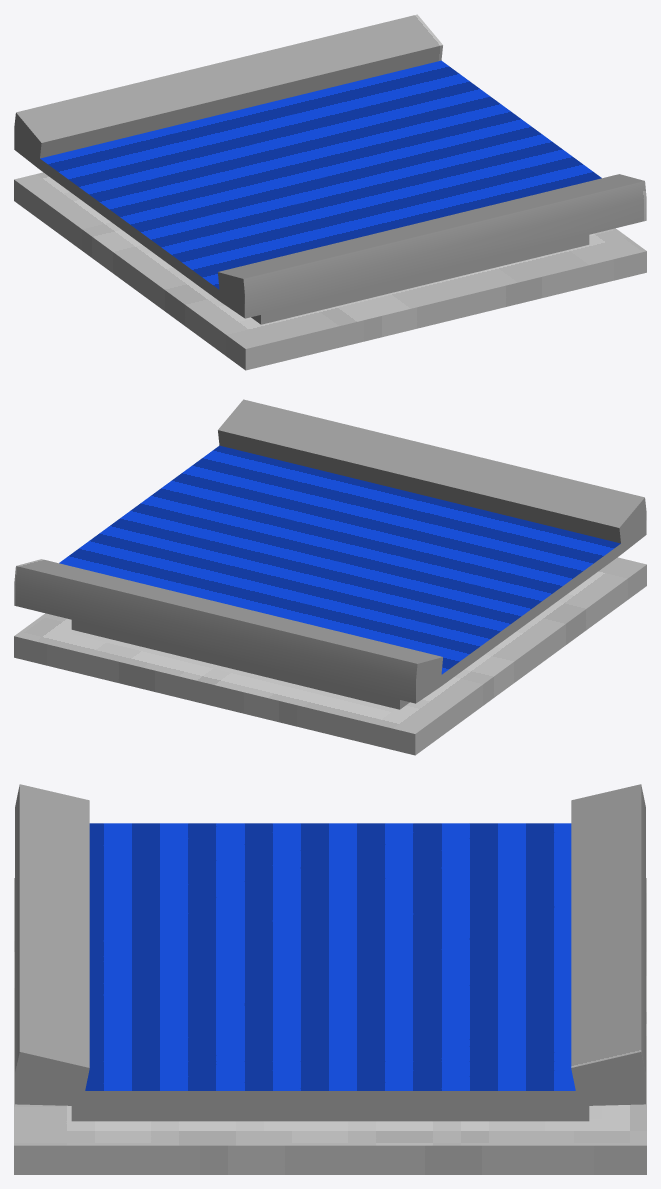
Rendered from solar_panel.obj.
3 views of the same model, one above another, from view 1: azimuth 30°, elevation 25°; view 2: azimuth 150°, elevation 25°; view 3: azimuth 270°, elevation 25° (orthographic). The views are drawn at different scales.
Parts seen in each view (by area): view 1: solarPanel; view 2: solarPanel; view 3: solarPanel.
Part boxes in pixels (x1,y1,x2,y2): solarPanel: [14, 14, 646, 370]; solarPanel: [14, 399, 646, 755]; solarPanel: [14, 784, 646, 1174].
Size of the model in its own units: 1 by 0.2146 by 1.
